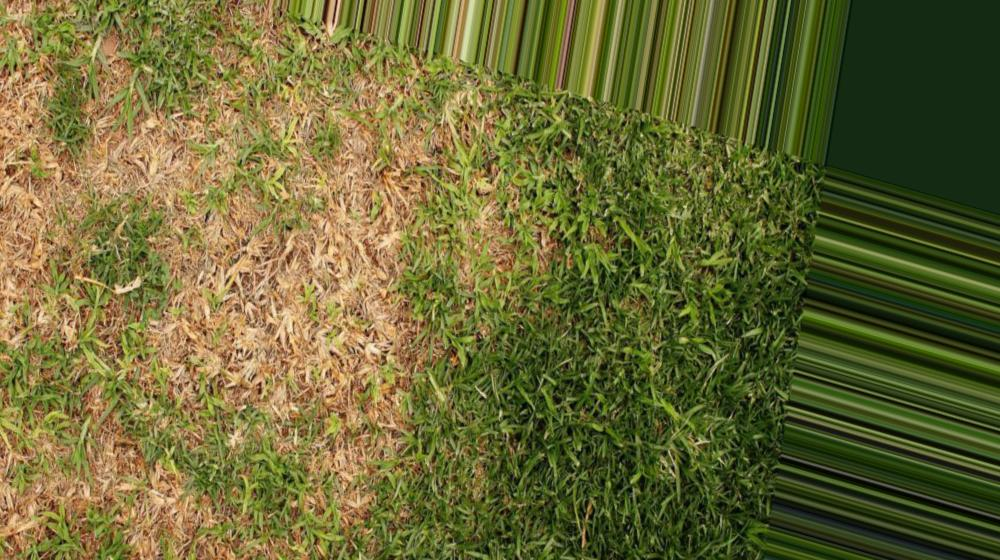patch: (141, 261, 329, 353), (327, 122, 433, 238), (9, 97, 97, 232), (226, 363, 359, 429), (103, 461, 202, 549), (132, 148, 243, 222), (232, 53, 302, 143), (461, 192, 521, 275), (304, 443, 377, 511), (3, 247, 53, 333), (348, 264, 402, 342), (3, 452, 44, 538), (135, 110, 228, 147)
